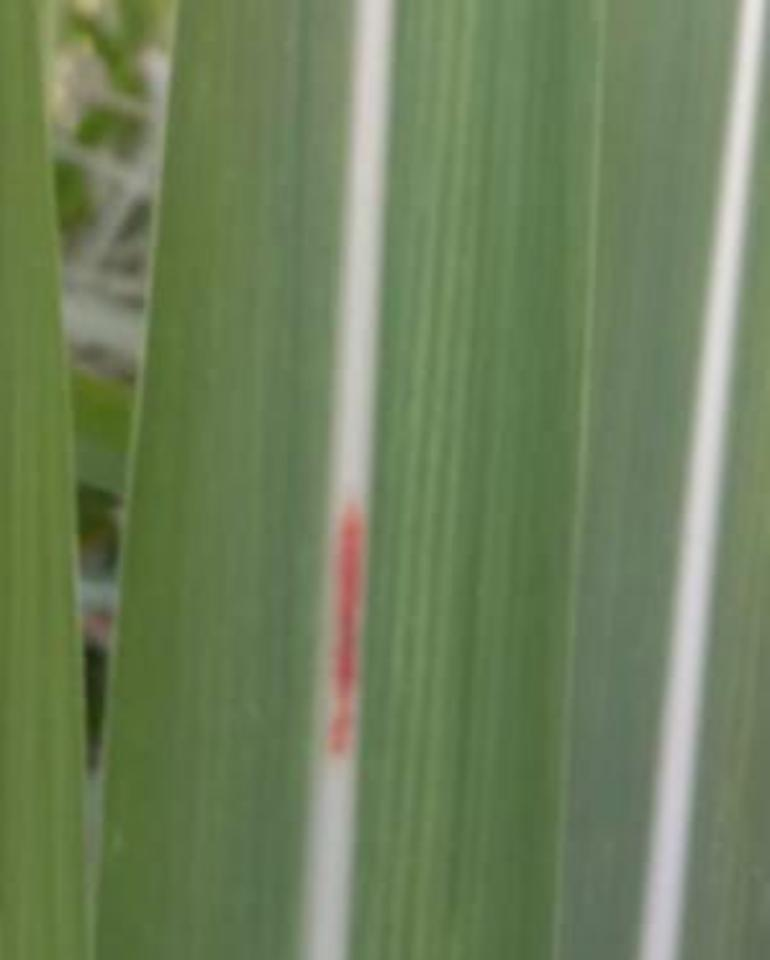RedRot: (324, 497, 368, 768)
